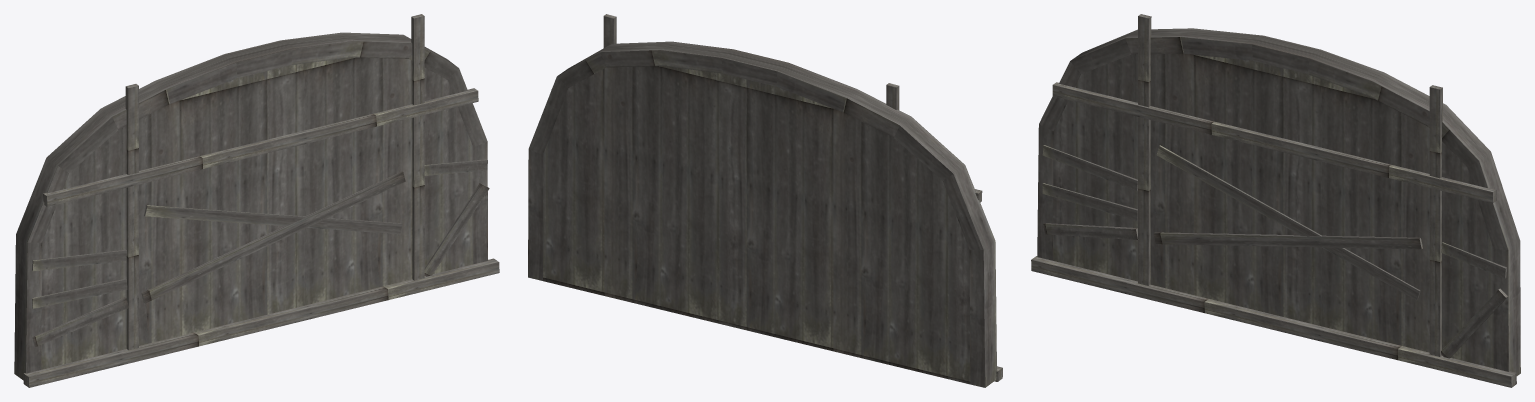
Rendered from jov_tunnel01.close.fbx.
The picture shows the model from 3 angles, left to right: view 1: azimuth 30°, elevation 25°; view 2: azimuth 150°, elevation 25°; view 3: azimuth 330°, elevation 25°; orthographic projection. The views are drawn at different scales.
Parts seen in each view (by area): view 1: jov_tunnel01.close; view 2: jov_tunnel01.close; view 3: jov_tunnel01.close.
Part boxes in pixels (x1,y1,x2,y2): jov_tunnel01.close: [14, 14, 499, 387]; jov_tunnel01.close: [528, 14, 1002, 387]; jov_tunnel01.close: [1031, 14, 1520, 387].
Bounding box in the file's own units: 766 × 425 × 45.86.
